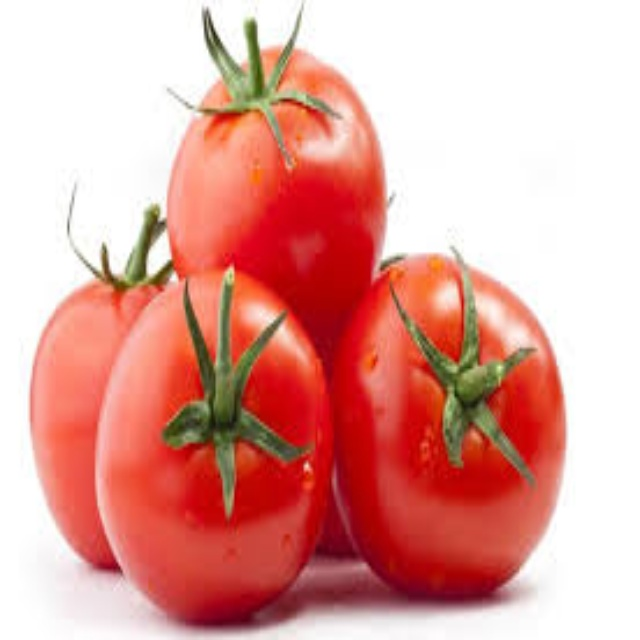tomato: (328, 254, 571, 603), (102, 275, 341, 623), (165, 35, 391, 330), (25, 270, 194, 576)
